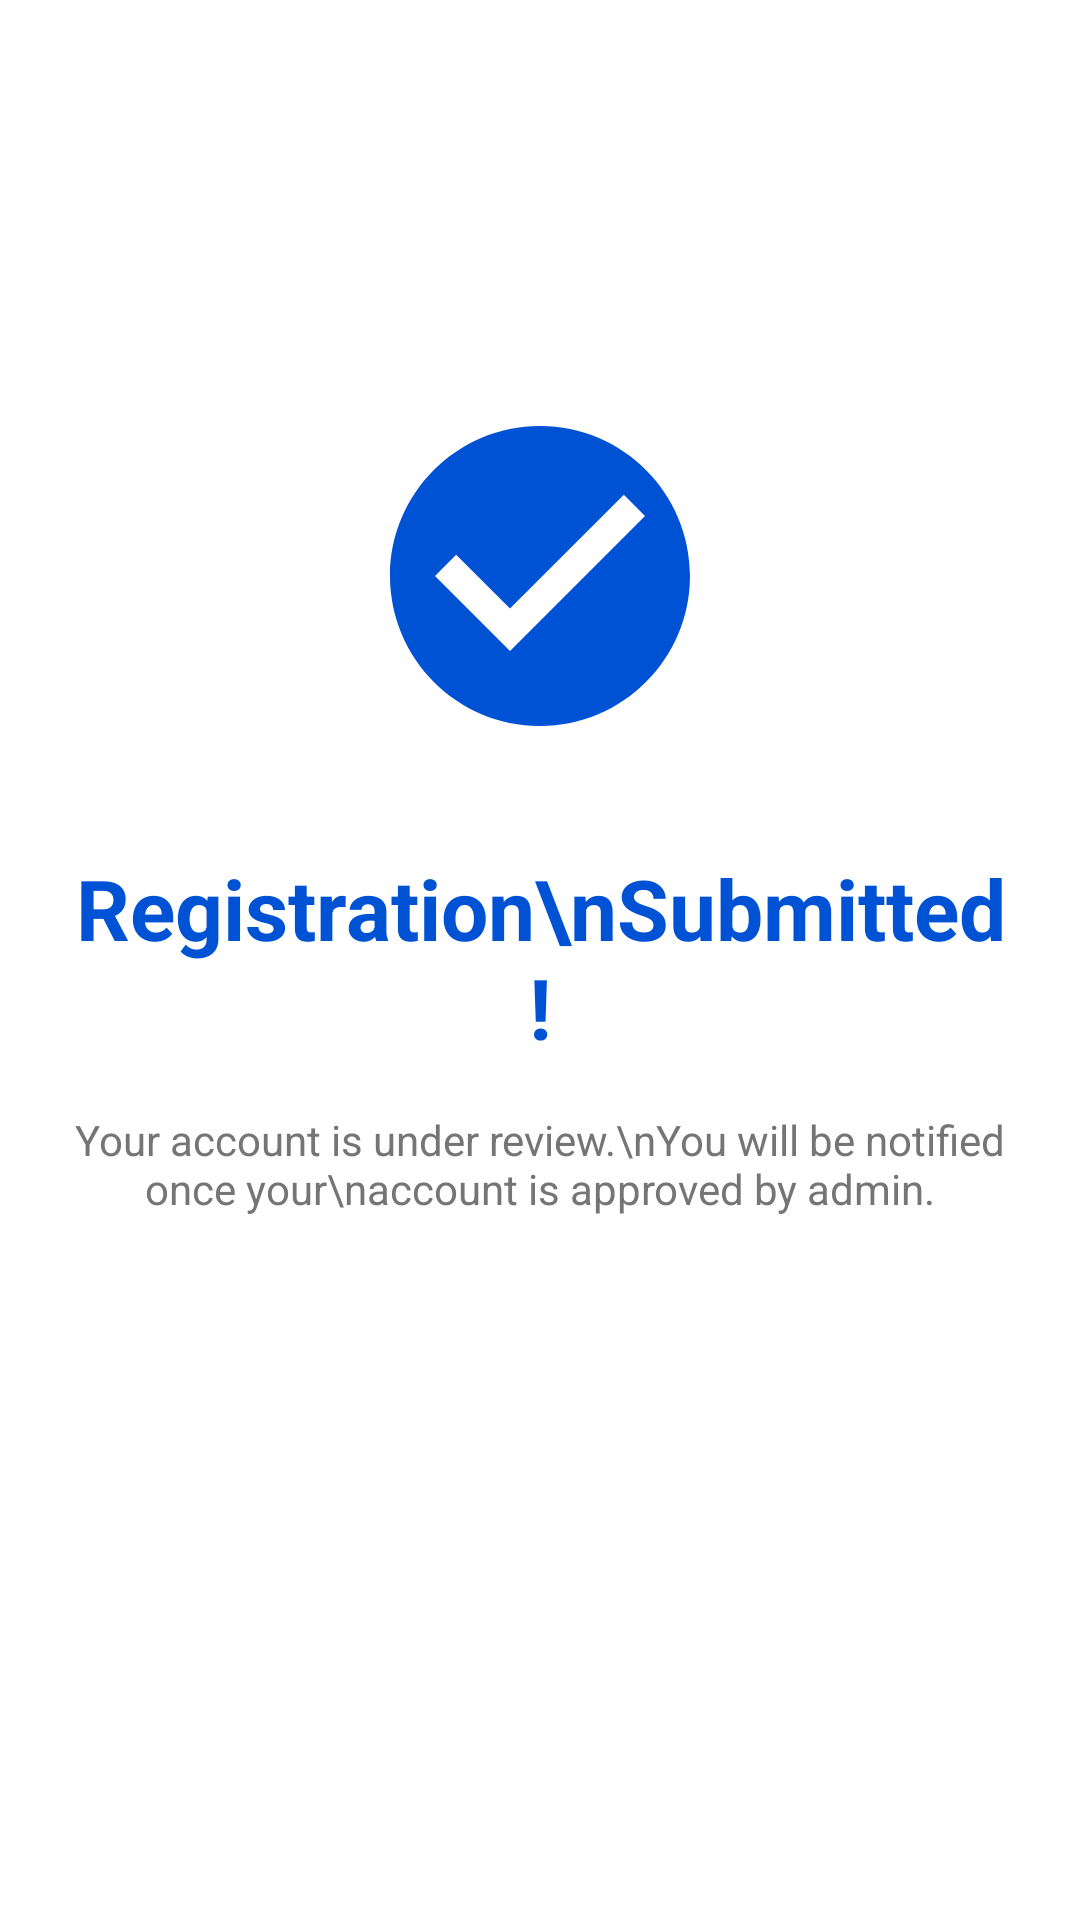

Icon click points for this 1080*1920 phone screenshot, format point (x, y):
check circle: point (540, 576)
